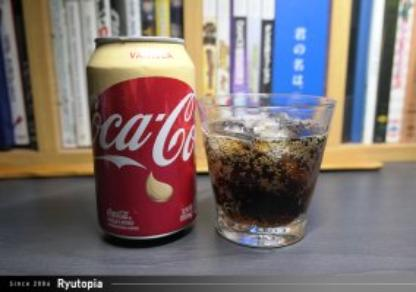Can: (86, 35, 200, 244)
